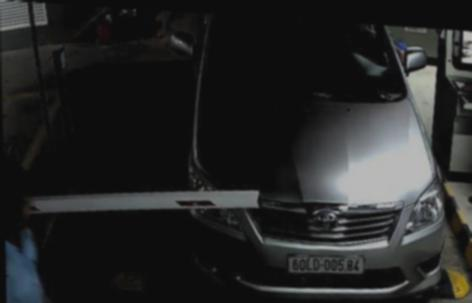License_Plate: (283, 249, 367, 279)
